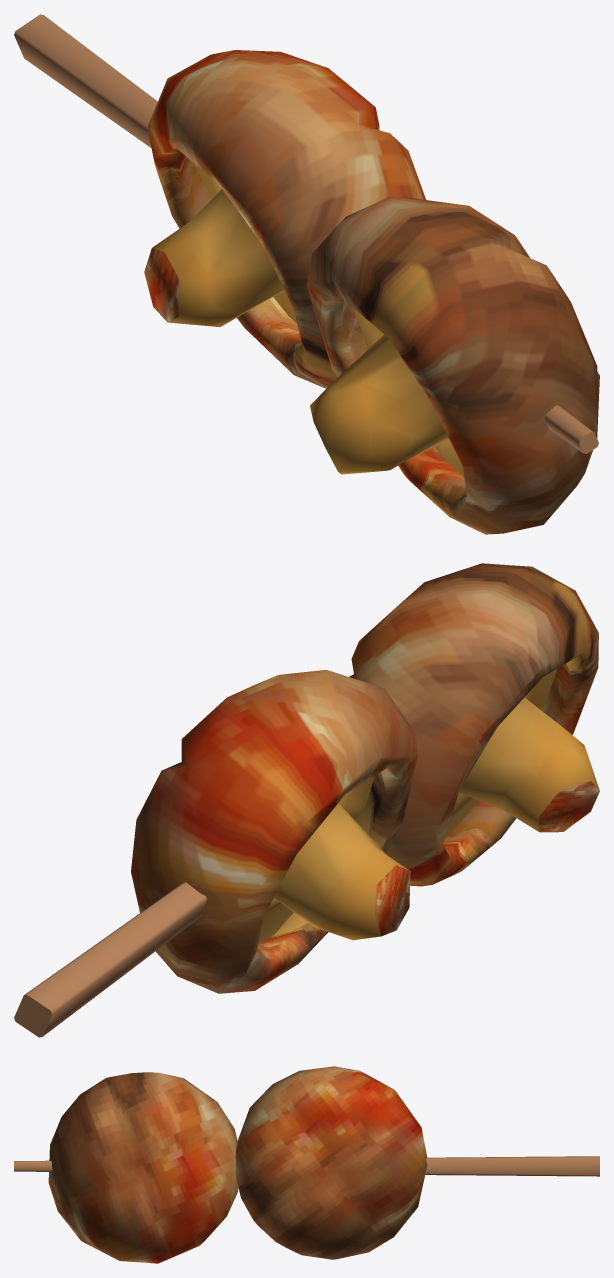
The model's file is ref_bbqmushroom.fbx.
The picture shows the model from 3 angles, top to bottom: view 1: azimuth 30°, elevation 25°; view 2: azimuth 150°, elevation 25°; view 3: azimuth 270°, elevation 25°; orthographic projection. The views are drawn at different scales.
Parts seen in each view (by area): view 1: ref_bbqmushroom; view 2: ref_bbqmushroom; view 3: ref_bbqmushroom.
Part boxes in pixels (x1,y1,x2,y2): ref_bbqmushroom: (14, 14, 599, 534); ref_bbqmushroom: (14, 563, 599, 1037); ref_bbqmushroom: (14, 1066, 599, 1263).
Bounding box in the file's own units: 28.07 × 33.05 × 100.
